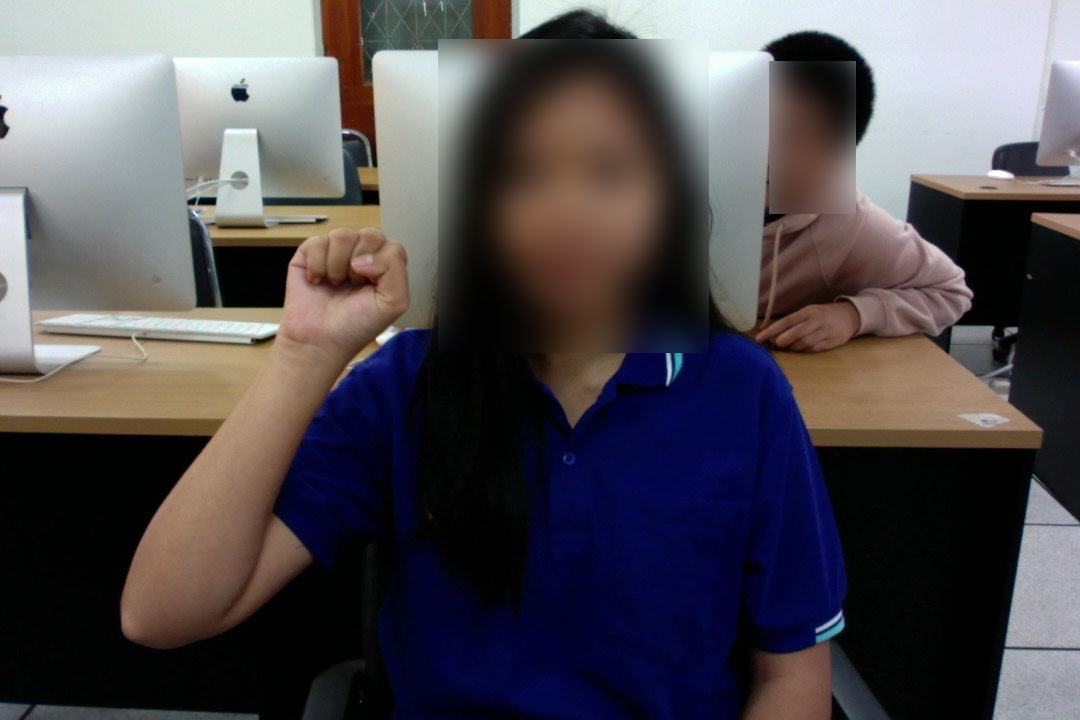sor: (268, 222, 415, 375)
